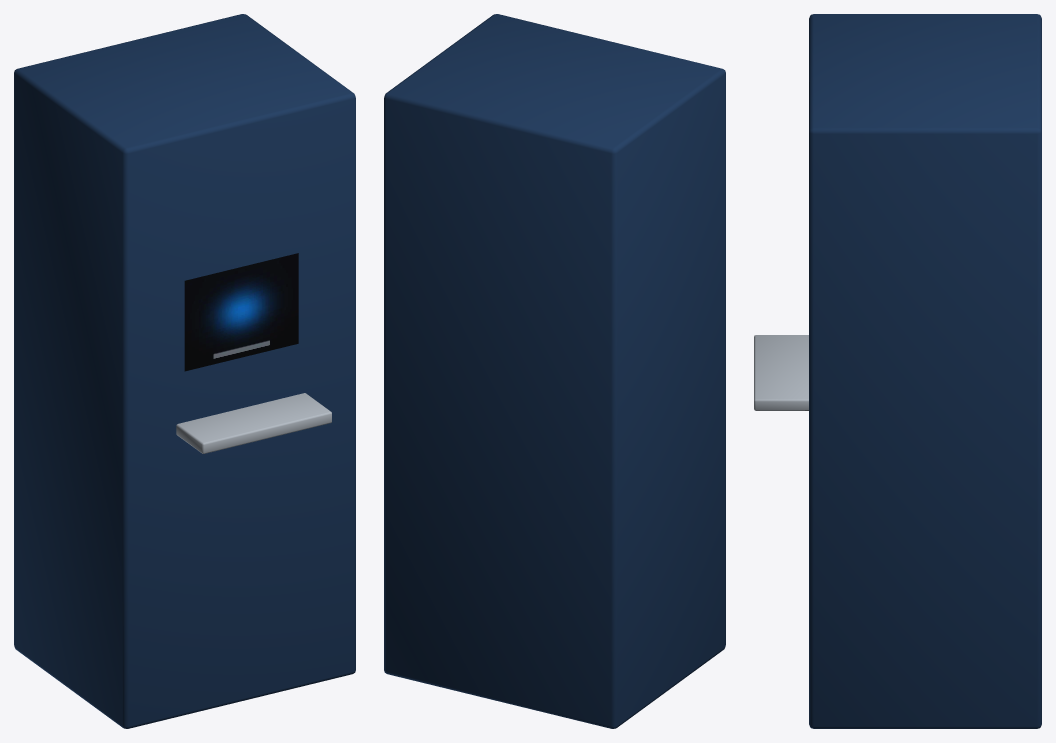
Rendered from atm-kiosk-913d50d75b4f.glb.
The picture shows the model from 3 angles, left to right: view 1: azimuth 30°, elevation 25°; view 2: azimuth 150°, elevation 25°; view 3: azimuth 270°, elevation 25°; orthographic projection. The views are drawn at different scales.
Parts seen in each view (by area): view 1: Body, Screen_Surface, Keypad_Shelf; view 2: Body; view 3: Body, Keypad_Shelf.
Boxes of the visible parts, bbox=[...] form: Body: bbox=[14, 14, 355, 728]; Screen_Surface: bbox=[184, 253, 298, 371]; Keypad_Shelf: bbox=[176, 393, 331, 453]; Body: bbox=[384, 14, 725, 728]; Body: bbox=[809, 14, 1041, 728]; Keypad_Shelf: bbox=[754, 335, 808, 410].
Bounding box in the file's own units: 0.86 × 2.05 × 0.89.
3 materials, 1 textured.
